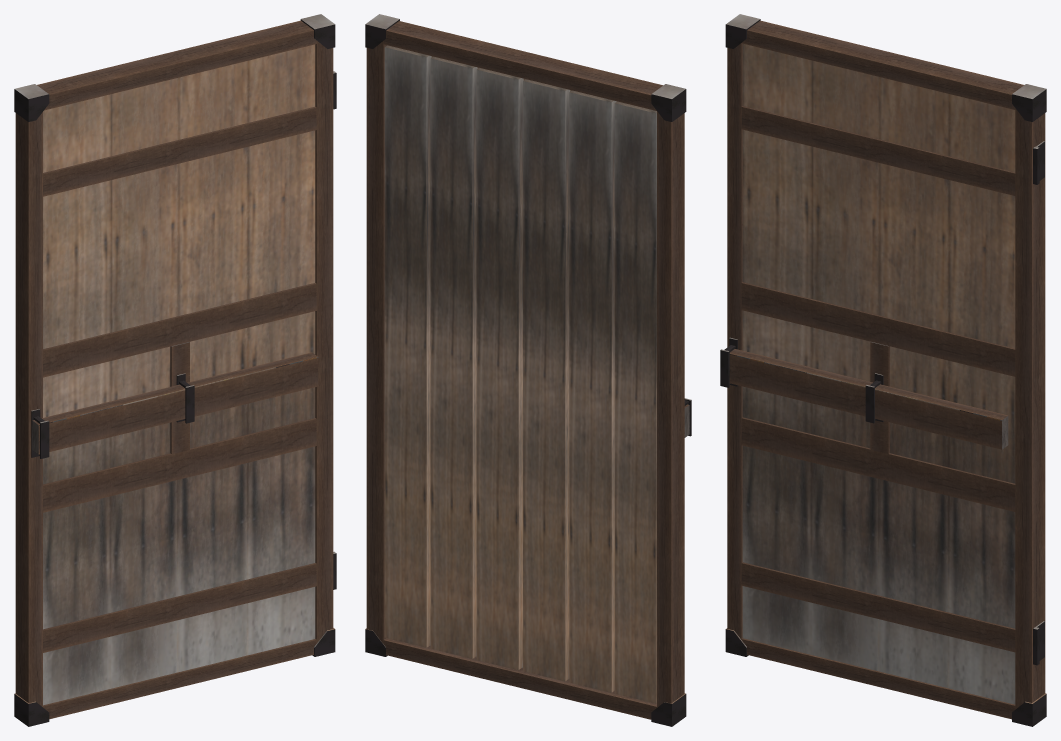
The model's file is entrancegate01_r.fbx.
3 renders of one model, left to right at view 1: azimuth 30°, elevation 25°; view 2: azimuth 150°, elevation 25°; view 3: azimuth 330°, elevation 25°, orthographic.
Parts seen in each view (by area): view 1: entrancegate01_r; view 2: entrancegate01_r; view 3: entrancegate01_r.
Part boxes in pixels (x1,y1,x2,y2): entrancegate01_r: (14,14,336,726); entrancegate01_r: (365,14,691,726); entrancegate01_r: (720,14,1046,726).
Bounding box in the file's own units: 125 × 243 × 16.21.
